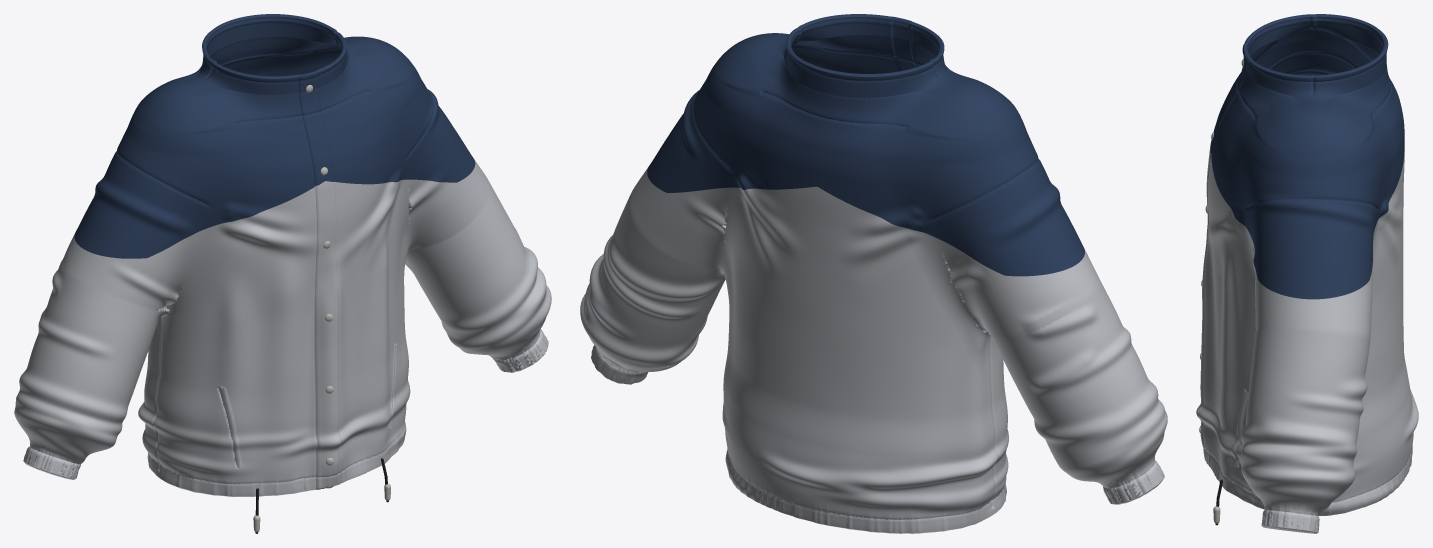
The model's file is 07_cortavientos_botones.glb.
3 views of the same model, side by side, from view 1: azimuth 30°, elevation 25°; view 2: azimuth 150°, elevation 25°; view 3: azimuth 270°, elevation 25° (orthographic). The views are drawn at different scales.
Visible parts, largest first — view 1: body, secondary; view 2: body, secondary; view 3: body, secondary.
Part boxes in pixels (x1,y1,x2,y2): body: [14, 159, 551, 496]; secondary: [74, 14, 475, 258]; body: [580, 168, 1167, 533]; secondary: [647, 14, 1084, 276]; body: [1196, 145, 1418, 533]; secondary: [1210, 14, 1404, 299].
Size of the model in its own units: 1.02 by 0.8174 by 0.3665.
